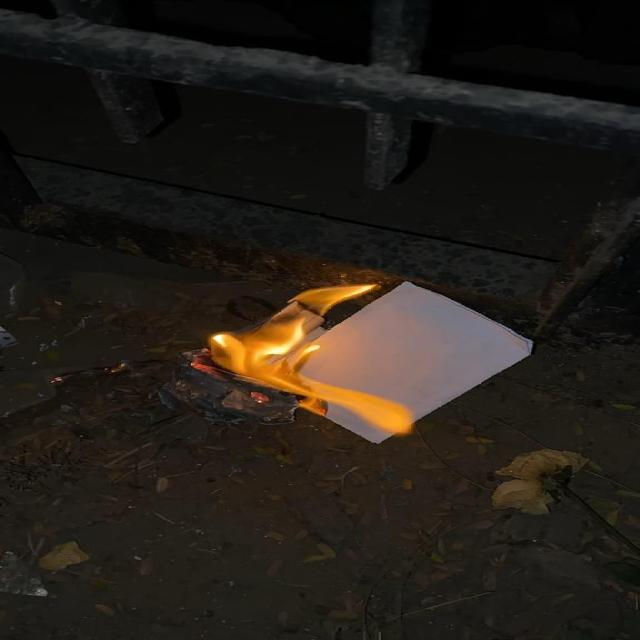fire: (206, 286, 417, 434)
